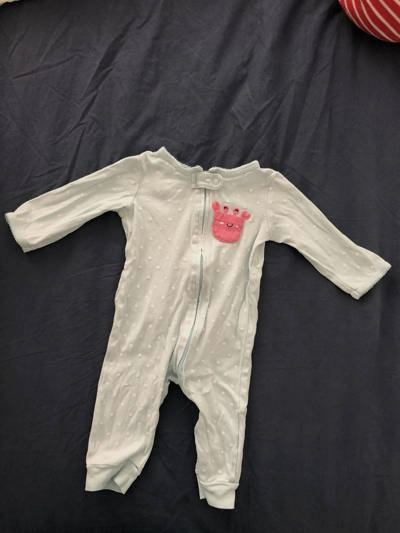Body: (6, 129, 390, 516)
